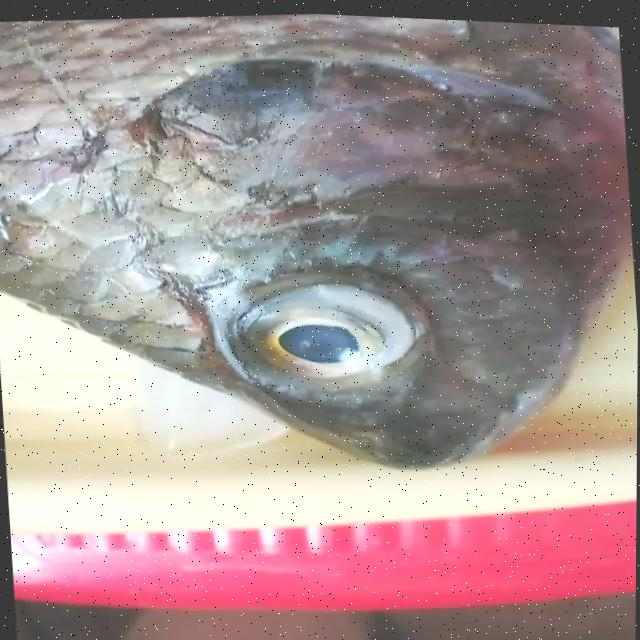Fresh: (205, 249, 443, 399)
